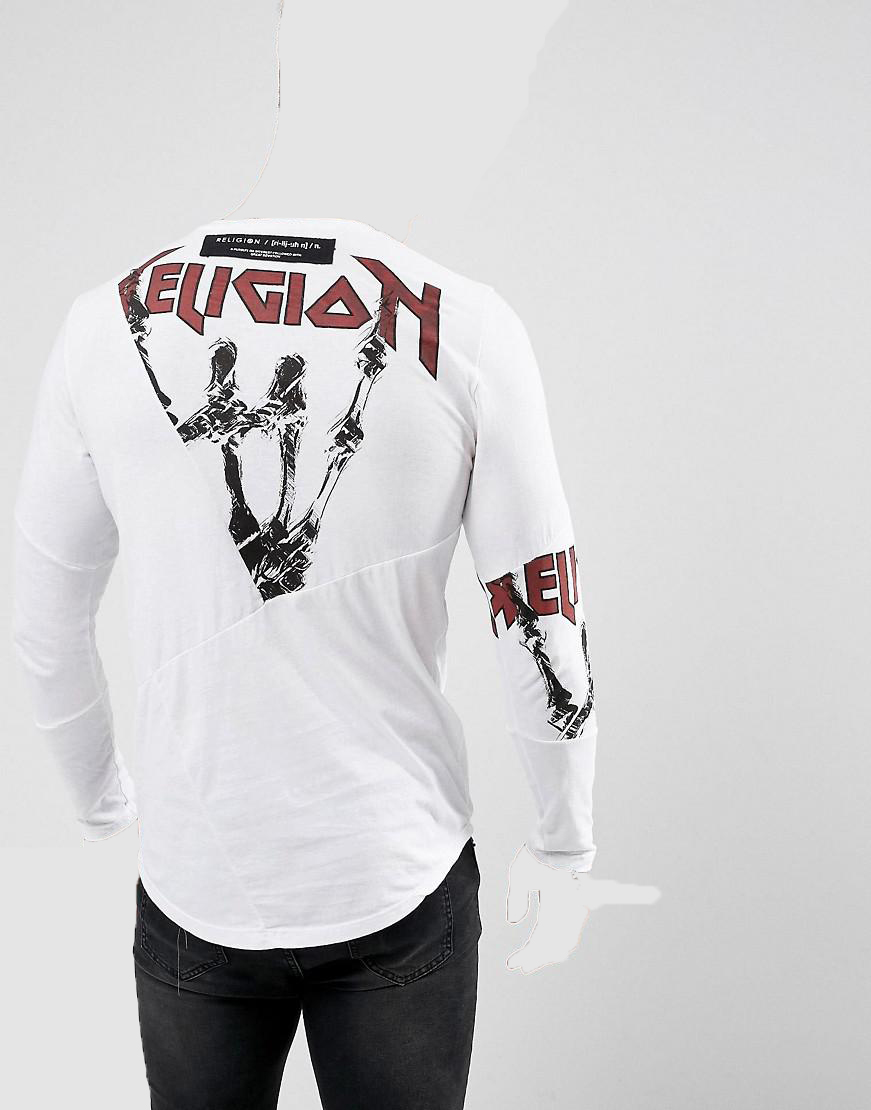teeshirt: (15, 215, 612, 952)
